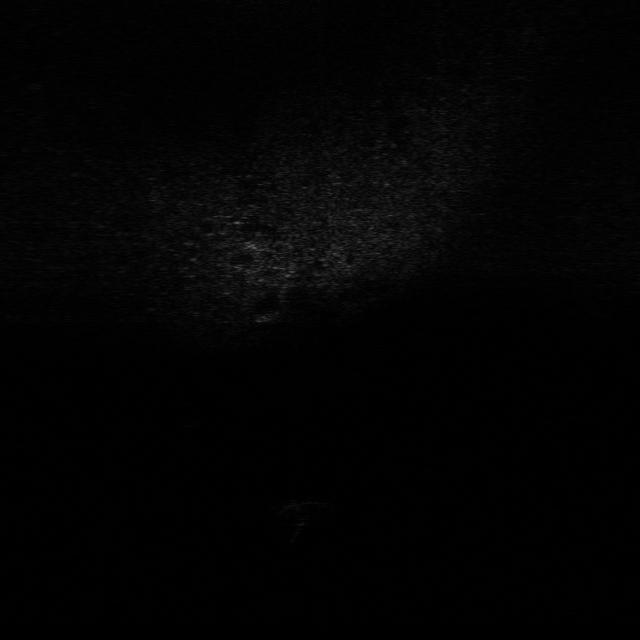circle cage: (270, 488, 338, 532)
